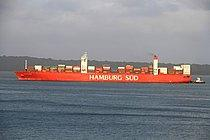Ship: (8, 45, 196, 86)
